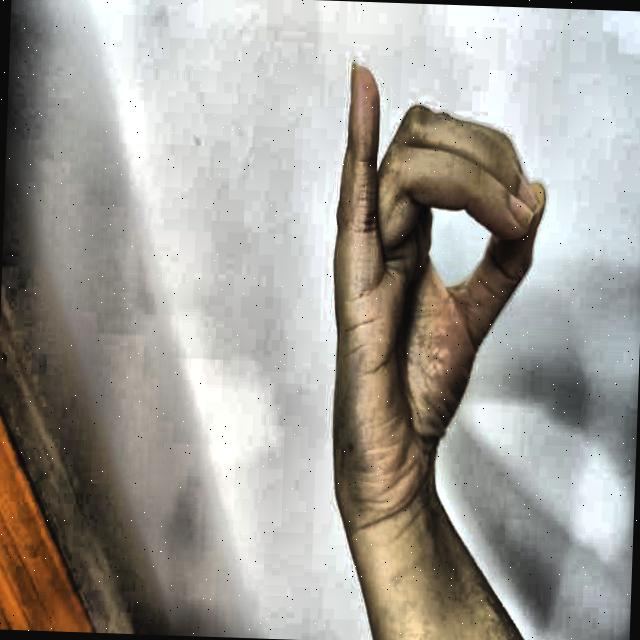Ou: (307, 31, 565, 533)
